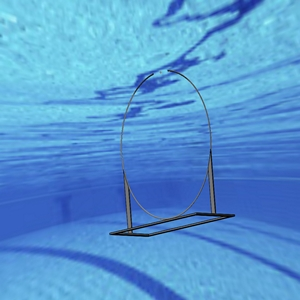circle: (111, 69, 231, 235)
